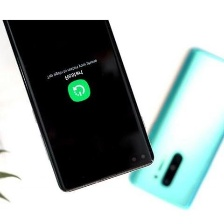phone: (0, 0, 157, 198), (122, 41, 224, 214)
